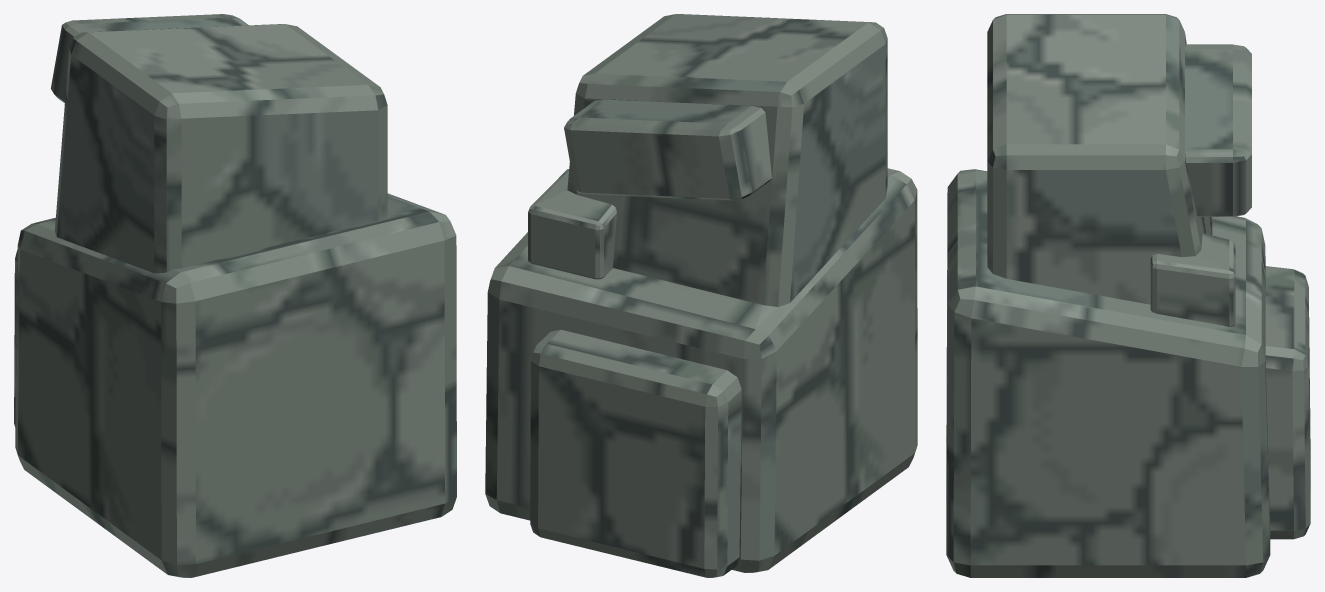
Rendered from rock1.fbx.
The picture shows the model from 3 angles, left to right: view 1: azimuth 30°, elevation 25°; view 2: azimuth 150°, elevation 25°; view 3: azimuth 270°, elevation 25°; orthographic projection. The views are drawn at different scales.
Parts seen in each view (by area): view 1: Cube.004; view 2: Cube.004; view 3: Cube.004.
Part boxes in pixels (bbox=[...]): Cube.004: bbox=[14, 14, 456, 577]; Cube.004: bbox=[485, 14, 917, 577]; Cube.004: bbox=[946, 14, 1310, 577].
Size of the model in its own units: 200 by 306 by 225.
1 material, 1 textured.
